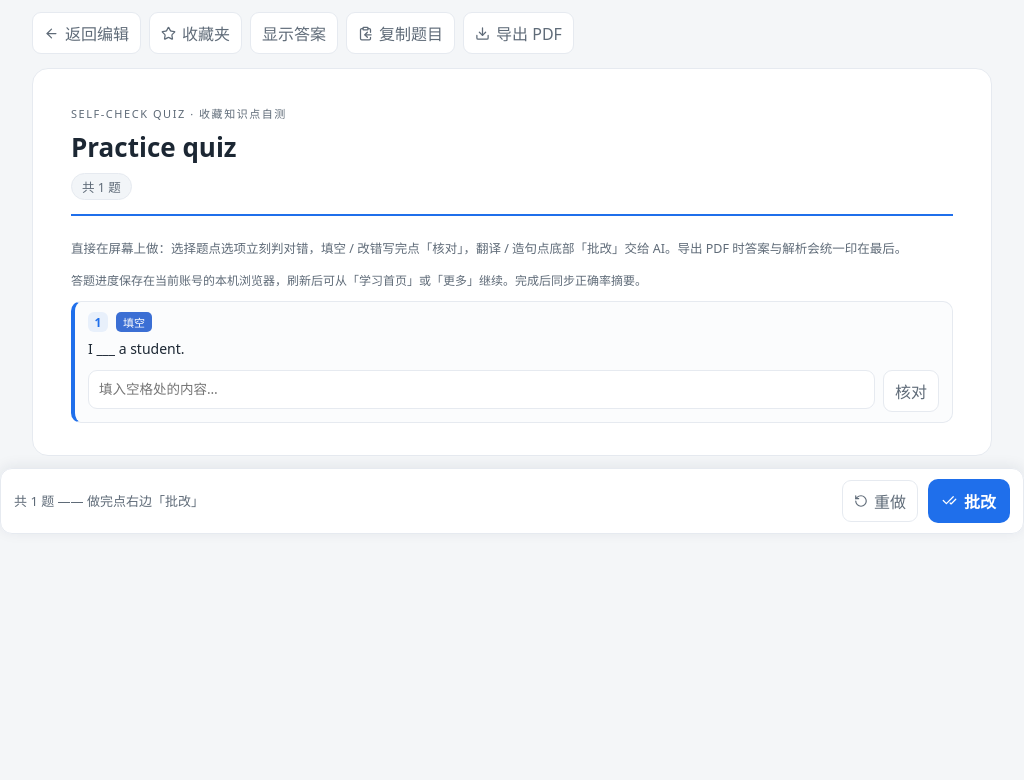
Test: local quiz recovery › reports storage failure without discarding the visible answer
In the field with placeholder "填入空格处的内容…": (482, 389) [88,370,875,409], type "my answer"
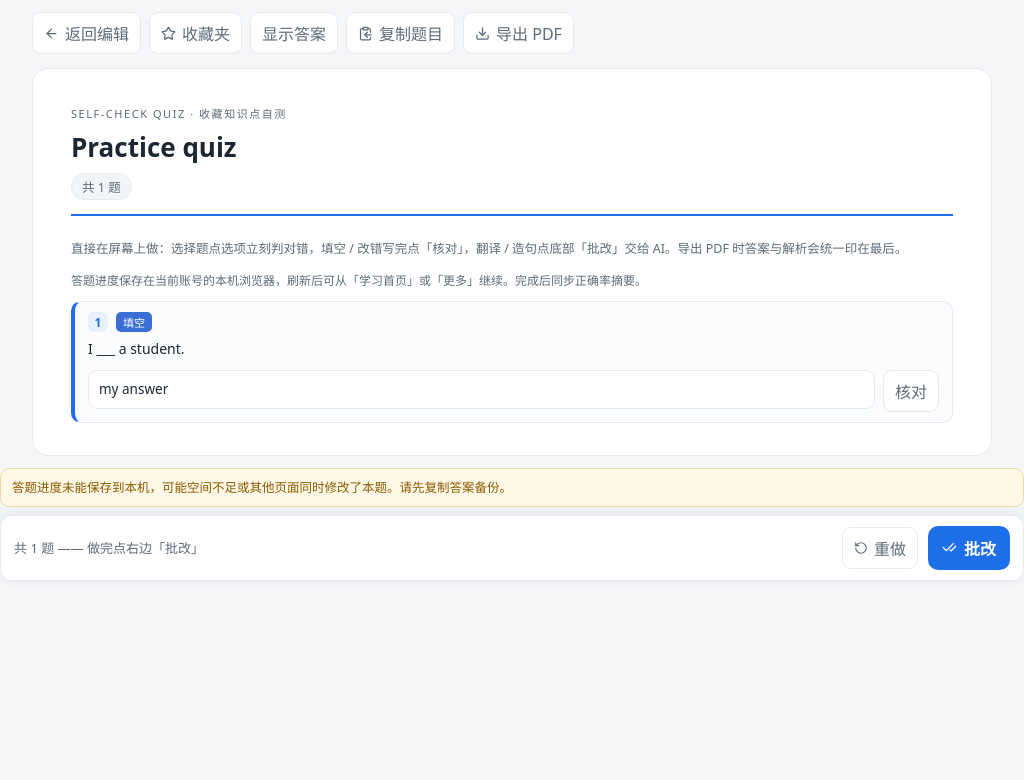
expect the text "答题进度未能保存到本机，可能空间不足或其他页面同时修改了本题。请先复制答案备份。" is shown: met, box [0,468,1023,507]
